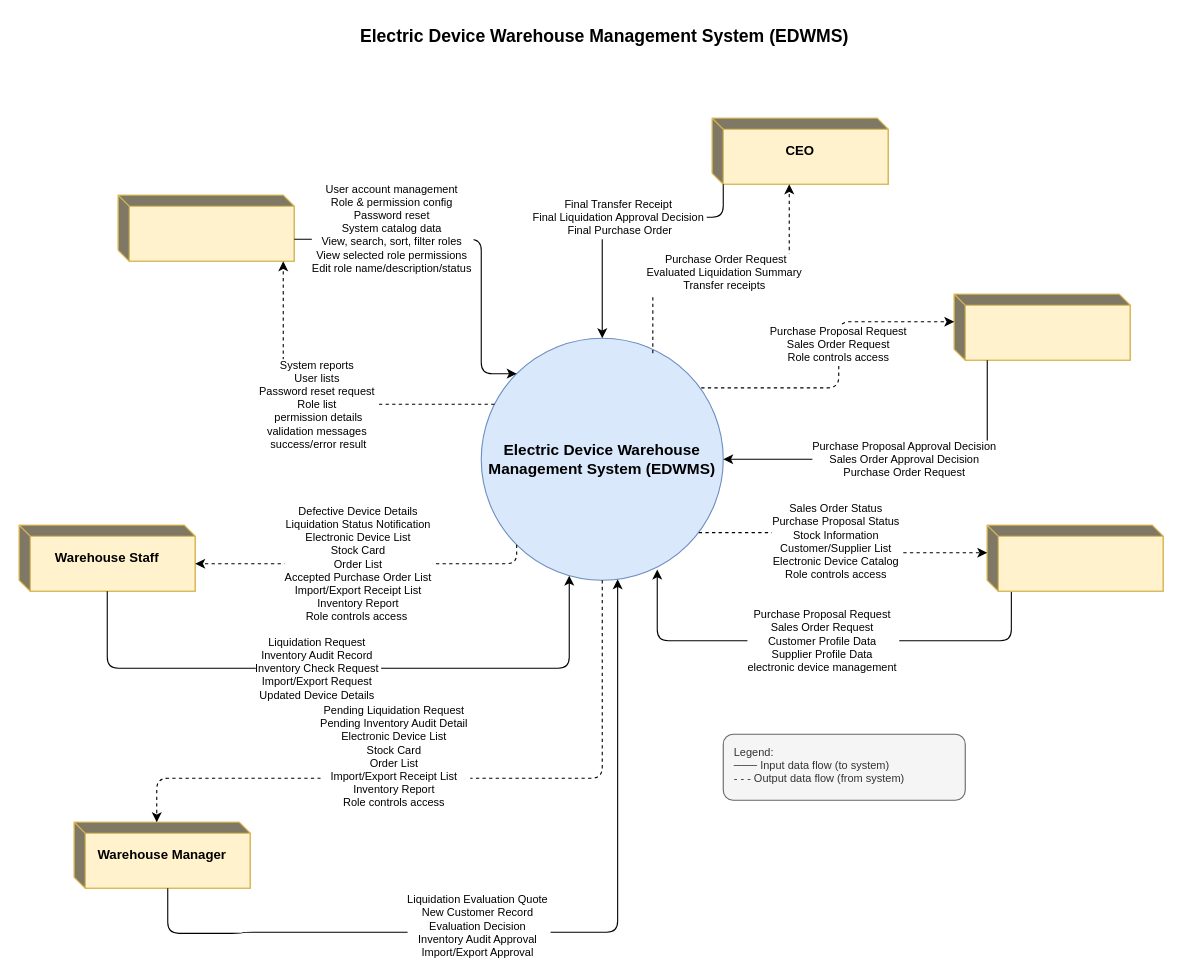
This 1183x977 diagram has some shape labels left out. Here are the shapes that lost their labels. From the top down, the box of each, then its label:
(117, 194, 294, 261): Admin
(953, 293, 1130, 360): Sales Manager
(986, 524, 1163, 591): Sales Staff
